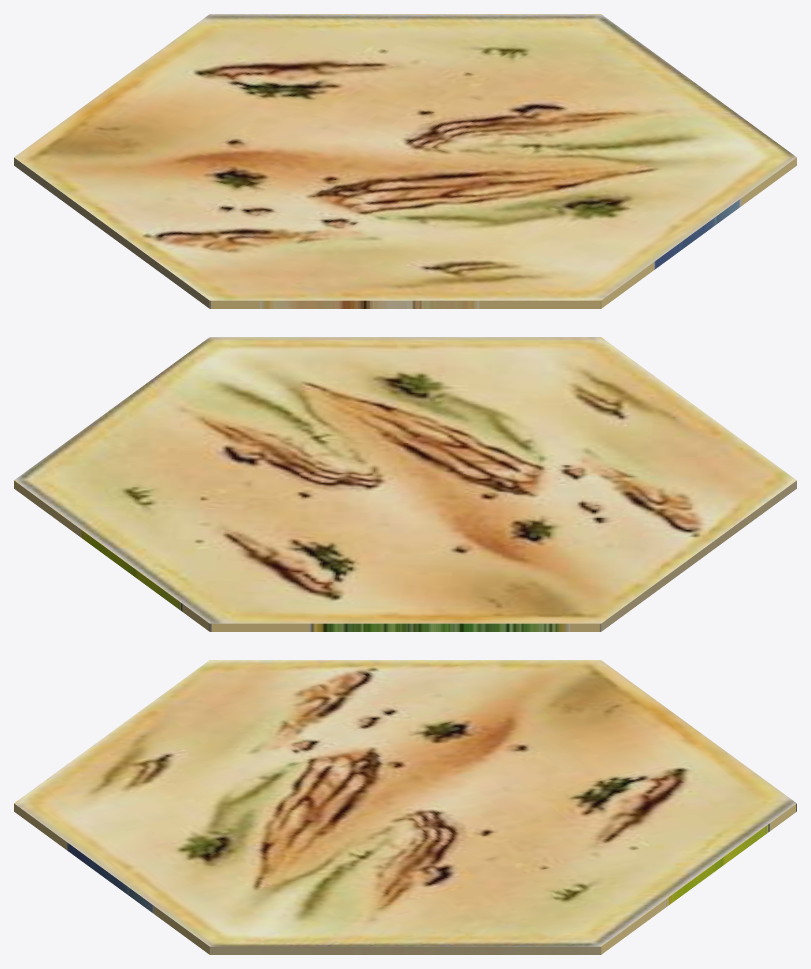
Rendered from lehm.obj.
3 renders of one model, top to bottom at view 1: azimuth 30°, elevation 25°; view 2: azimuth 150°, elevation 25°; view 3: azimuth 270°, elevation 25°, orthographic.
Parts seen in each view (by area): view 1: lehm; view 2: lehm; view 3: lehm.
Part boxes in pixels (x1,y1,x2,y2): lehm: [14, 14, 796, 308]; lehm: [14, 337, 796, 631]; lehm: [14, 660, 796, 954].
Bounding box in the file's own units: 1.73 × 0.0232 × 2.
